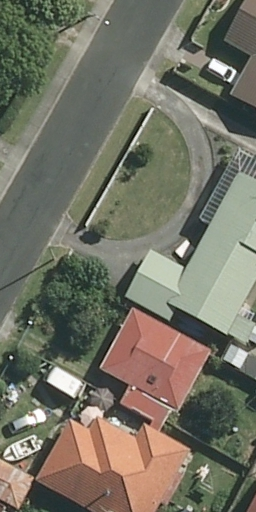DT: (46, 242, 58, 263)
